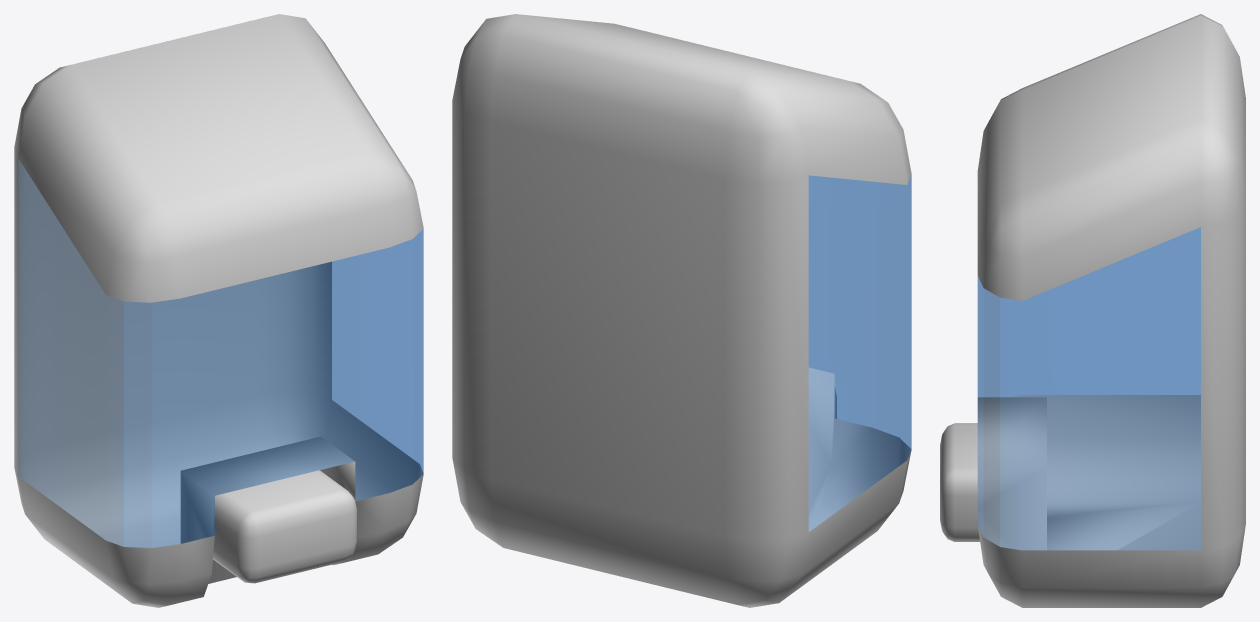
3 renders of one model, left to right at view 1: azimuth 30°, elevation 25°; view 2: azimuth 150°, elevation 25°; view 3: azimuth 270°, elevation 25°, orthographic. The views are drawn at different scales.
Parts seen in each view (by area): view 1: H-8; view 2: H-8; view 3: H-8.
Part boxes in pixels (x1=…): H-8: x1=14, y1=14, x2=423, y2=607; H-8: x1=452, y1=14, x2=911, y2=607; H-8: x1=940, y1=14, x2=1245, y2=607.
Size of the model in its own units: 13.72 by 20 by 11.4.
